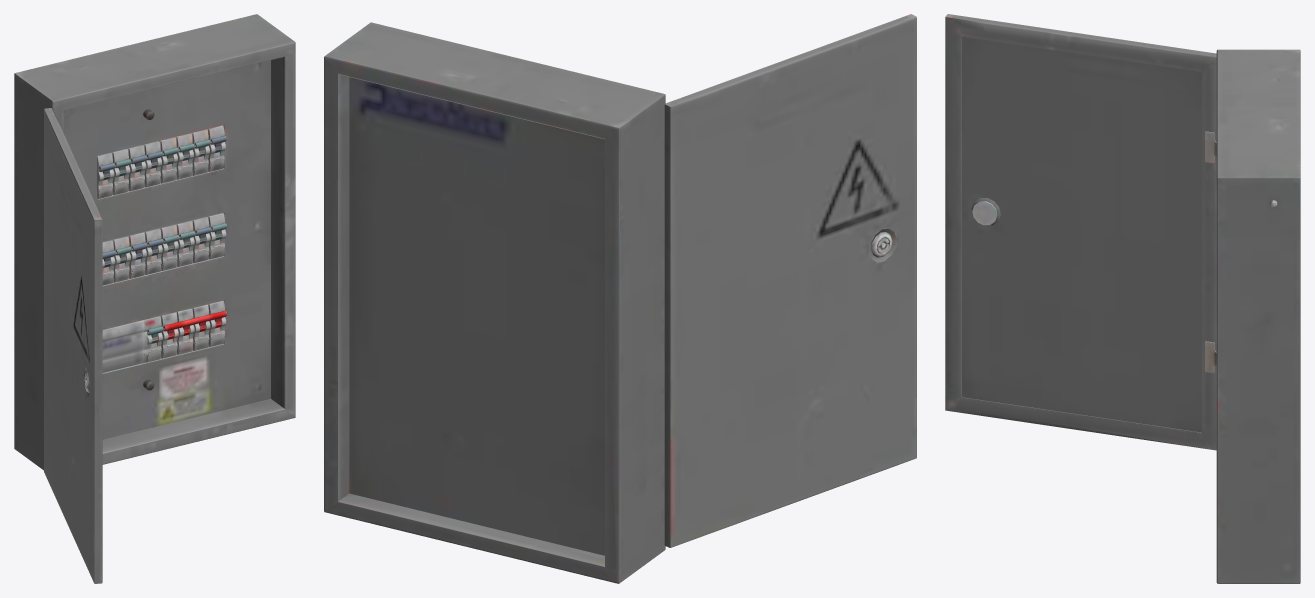
File: power_box_01.glb
3 views of the same model, side by side, from view 1: azimuth 30°, elevation 25°; view 2: azimuth 150°, elevation 25°; view 3: azimuth 270°, elevation 25° (orthographic). The views are drawn at different scales.
Visible parts, largest first — view 1: power_box_01_door; view 2: power_box_01_door; view 3: power_box_01_door.
Boxes of the visible parts, x1=… form: power_box_01_door: x1=14, y1=14, x2=295, y2=583; power_box_01_door: x1=324, y1=14, x2=916, y2=583; power_box_01_door: x1=945, y1=14, x2=1300, y2=583.
Size of the model in its own units: 0.4613 by 0.5031 by 0.399.
Materials: 1 (1 with a texture image).
